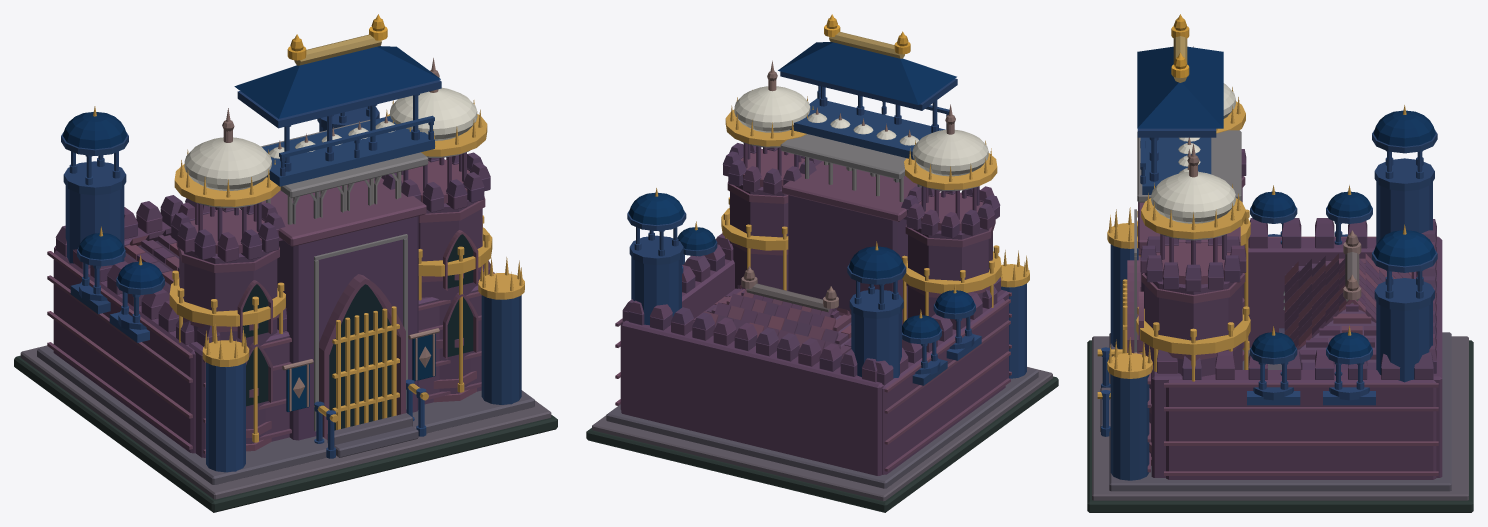
3 views of the same model, side by side, from view 1: azimuth 30°, elevation 25°; view 2: azimuth 150°, elevation 25°; view 3: azimuth 270°, elevation 25° (orthographic). The views are drawn at different scales.
Visible parts, largest first — view 1: barracks_L10_0, barracks_L10_1; view 2: barracks_L10_0, barracks_L10_1; view 3: barracks_L10_0, barracks_L10_1.
Part boxes in pixels (bbox=[...]): barracks_L10_0: bbox=[14, 18, 557, 512]; barracks_L10_1: bbox=[93, 14, 524, 442]; barracks_L10_0: bbox=[586, 18, 1058, 512]; barracks_L10_1: bbox=[655, 14, 1029, 323]; barracks_L10_0: bbox=[1087, 18, 1473, 512]; barracks_L10_1: bbox=[1097, 14, 1406, 398].
Bounding box in the file's own units: 5.6 × 6.38 × 5.6.
